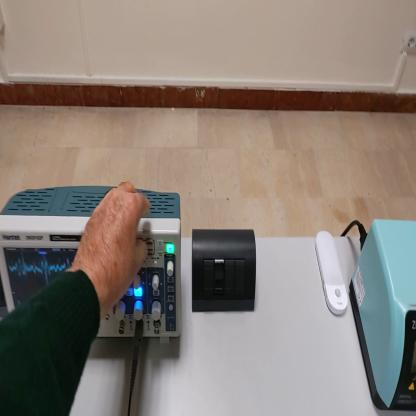hand: (77, 182, 149, 309)
oscilloscope: (2, 187, 184, 346)
welder station: (350, 218, 416, 409)
